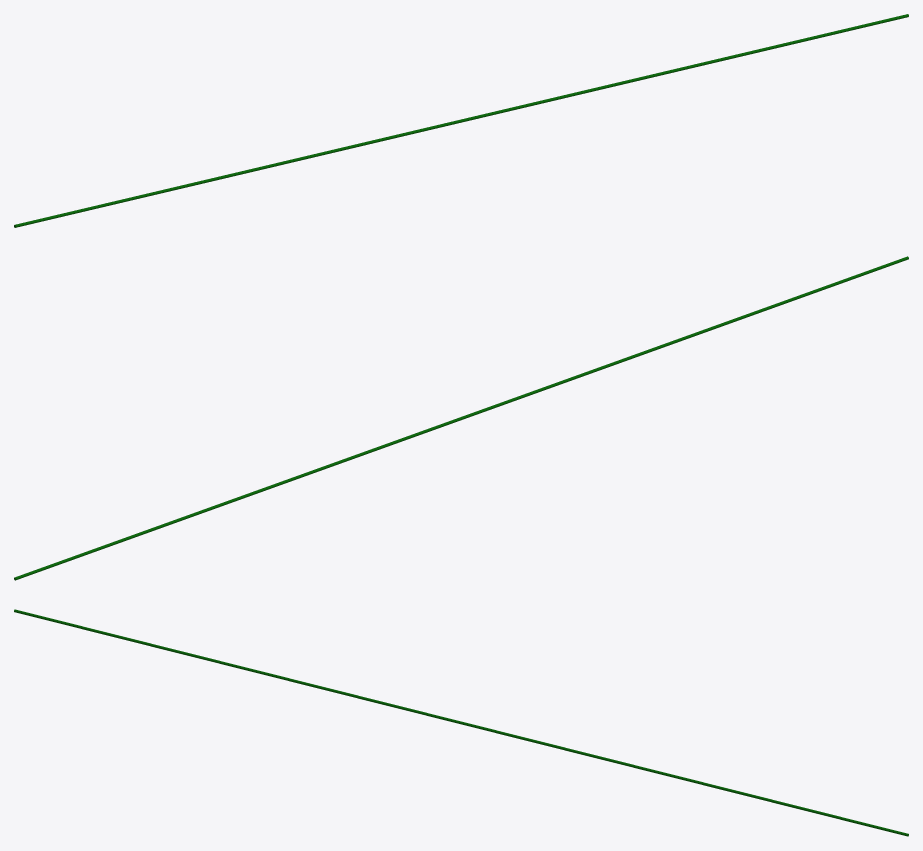
The model's file is Event_420604493_jet_0.fbx.
3 renders of one model, top to bottom at view 1: azimuth 30°, elevation 25°; view 2: azimuth 210°, elevation 25°; view 3: azimuth 330°, elevation 25°, orthographic. The views are drawn at different scales.
Parts seen in each view (by area): view 1: Model; view 2: Model; view 3: Model.
Boxes of the visible parts, x1,y1,x2,y2 form: Model: (14, 14, 908, 227); Model: (14, 256, 908, 580); Model: (14, 609, 908, 836).
Bounding box in the file's own units: 13.87 × 0.8153 × 1.29.
